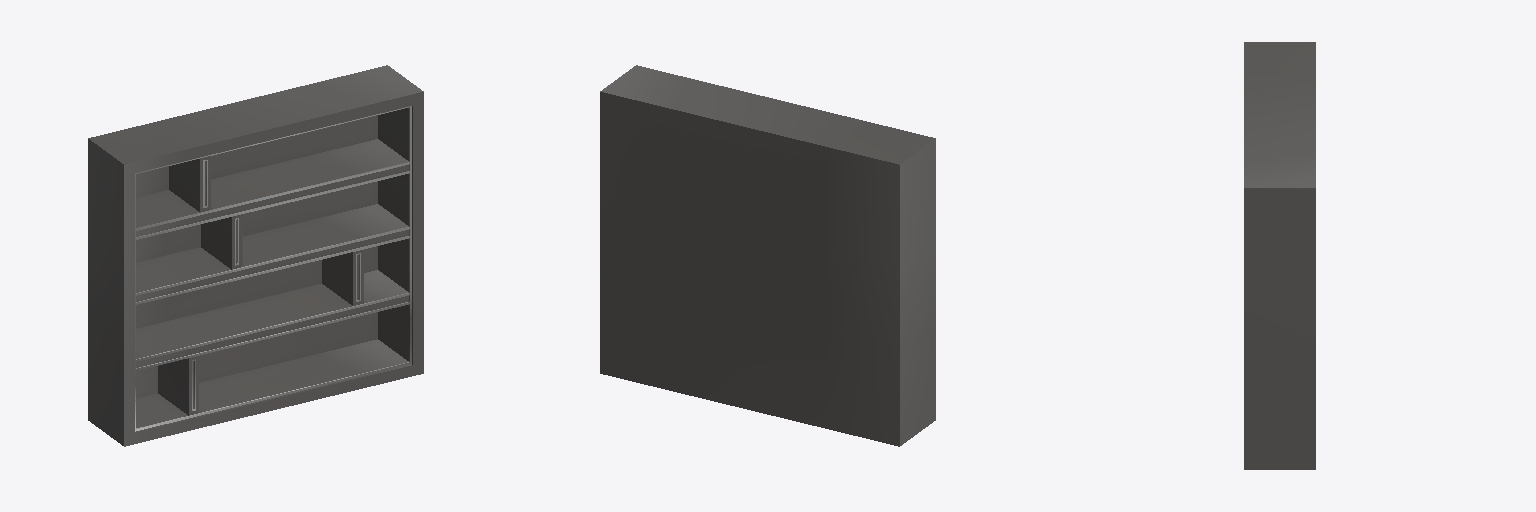
The picture shows the model from 3 angles: view 1: azimuth 30°, elevation 25°; view 2: azimuth 150°, elevation 25°; view 3: azimuth 270°, elevation 25°; orthographic projection.
Visible parts, largest first — view 1: solid_001, solid_002; view 2: solid_001; view 3: solid_001.
Part boxes in pixels (left/top/right/bottom): solid_001: left=88, top=65, right=423, bottom=446; solid_002: left=135, top=106, right=411, bottom=431; solid_001: left=600, top=65, right=935, bottom=446; solid_001: left=1244, top=42, right=1315, bottom=469.
Bounding box in the file's own units: 1.43 × 1.29 × 0.2982.
1 materials, 1 textured.